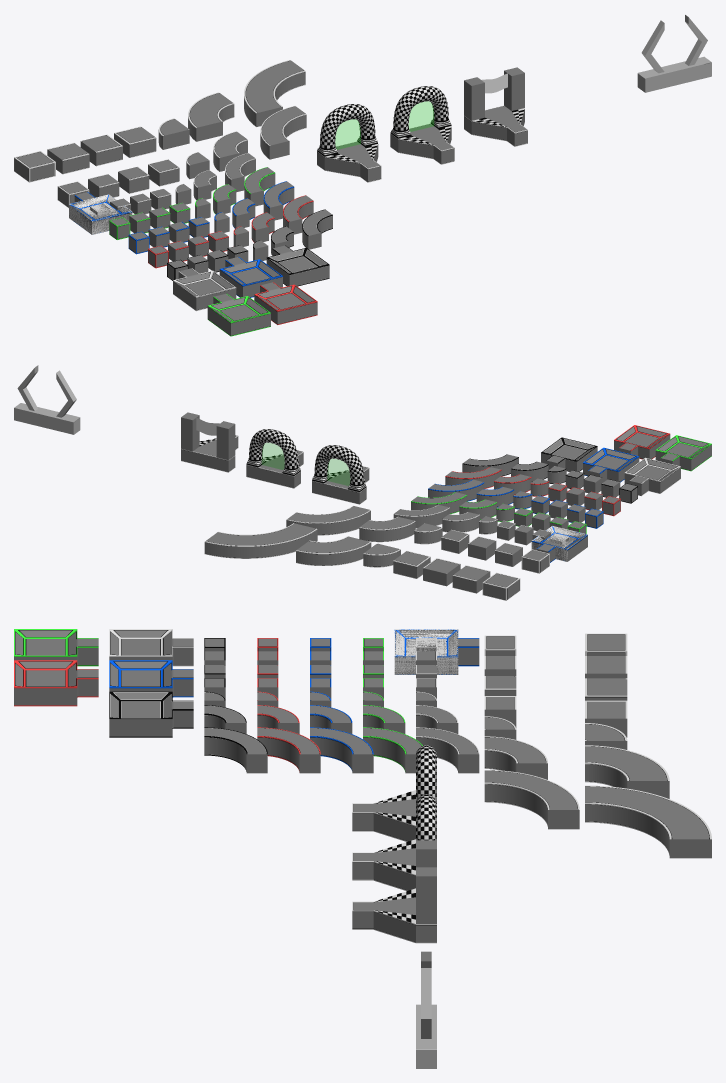
Rendered from collider_test.glb.
3 views of the same model, one above another, from view 1: azimuth 30°, elevation 25°; view 2: azimuth 150°, elevation 25°; view 3: azimuth 270°, elevation 25° (orthographic). The views are drawn at different scales.
Parts seen in each view (by area): view 1: Finish3, Finish1, Finish2, Cube.003, Curve-Large-White.001, Spawn-Green, Spawn-Red, Spawn-Black, Spawn-White, Curve-Medium-White.001, Curve-Large-White.002, Spawn-Blue (+22 smaller); view 2: Curve-Large-White.001, Finish3, Finish1, Finish2, Cube.003, Curve-Medium-White.001, Curve-Large-White.002, Spawn-White, Spawn-Green, Spawn-Black, Spawn-Blue, Spawn-Red (+27 smaller); view 3: Curve-Large-White.001, Finish3, Spawn-Black, Spawn-Red, Curve-Large-White.002, Finish1, Finish2, Curve-Medium-White.001, Spawn-Blue, Spawn-Green, Spawn-White, Curve-Large-Black (+21 smaller).
Boxes of the visible parts, x1,y1,x2,y2 form: Finish3: [464, 67, 527, 146]; Finish1: [317, 104, 381, 182]; Finish2: [390, 86, 454, 164]; Cube.003: [637, 15, 711, 92]; Curve-Large-White.001: [244, 60, 305, 126]; Spawn-Green: [207, 293, 270, 336]; Spawn-Red: [254, 282, 317, 324]; Spawn-Black: [266, 245, 329, 286]; Spawn-White: [173, 268, 236, 310]; Curve-Medium-White.001: [188, 92, 234, 141]; Curve-Large-White.002: [260, 106, 306, 159]; Spawn-Blue: [219, 257, 282, 297]; Curve-Large-White.001: [204, 523, 317, 558]; Finish3: [181, 412, 238, 472]; Finish1: [312, 445, 369, 504]; Finish2: [246, 429, 303, 488]; Cube.003: [14, 365, 80, 434]; Curve-Medium-White.001: [296, 536, 371, 565]; Curve-Large-White.002: [286, 505, 370, 535]; Spawn-White: [624, 457, 680, 495]; Spawn-Green: [655, 435, 711, 471]; Spawn-Black: [541, 437, 597, 471]; Spawn-Blue: [583, 447, 639, 482]; Spawn-Red: [614, 425, 670, 459]; Curve-Large-White.001: [585, 785, 711, 858]; Finish3: [352, 840, 436, 943]; Spawn-Black: [109, 691, 193, 737]; Spawn-Red: [14, 660, 98, 706]; Curve-Large-White.002: [484, 770, 579, 829]; Finish1: [352, 745, 436, 841]; Finish2: [352, 794, 436, 890]; Curve-Medium-White.001: [585, 745, 669, 798]; Spawn-Blue: [109, 660, 193, 697]; Spawn-Green: [14, 629, 98, 666]; Spawn-White: [109, 629, 193, 666]; Curve-Large-Black: [204, 727, 267, 773].
Size of what is drawn, in the model's own units: 94 by 9.05 by 66.
